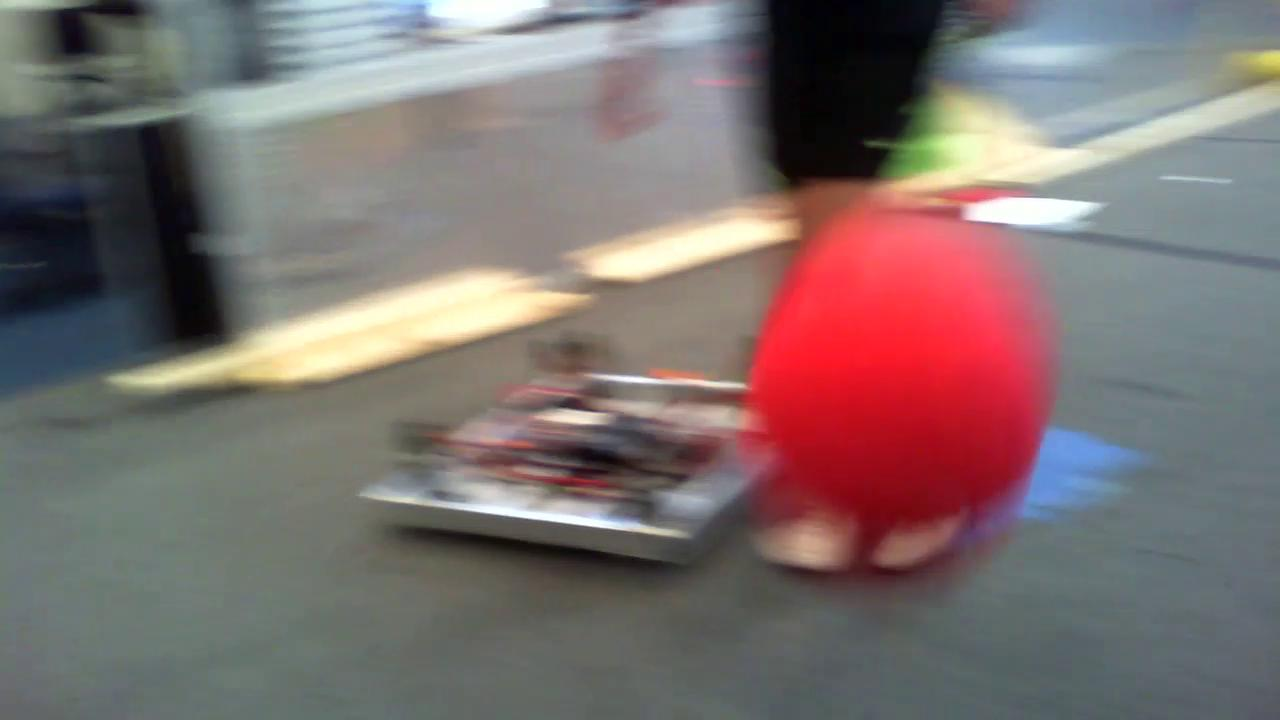Red_Ball: (750, 211, 1040, 538)
